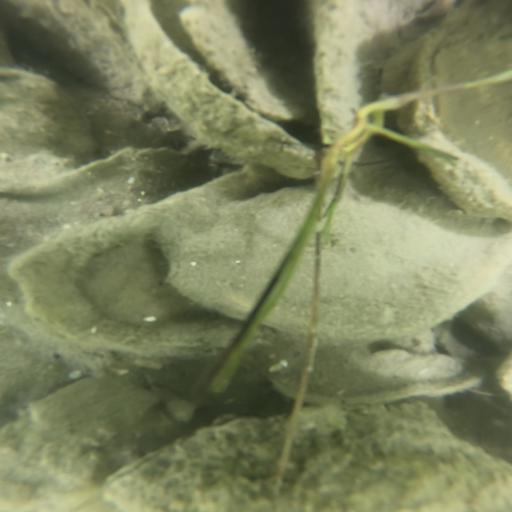Oyster-Closed: (268, 191, 503, 346), (287, 408, 512, 512), (1, 2, 164, 114), (170, 191, 309, 316), (107, 419, 287, 512), (182, 3, 307, 126), (244, 350, 492, 409), (6, 70, 106, 185)
